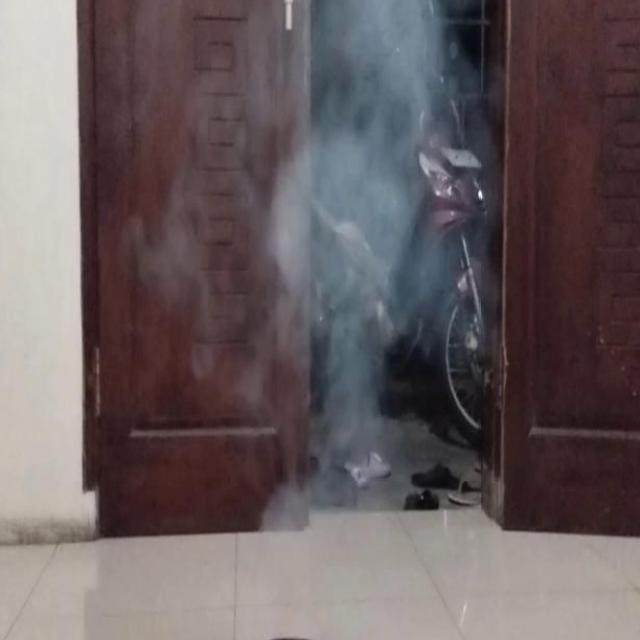fire: (257, 0, 474, 523)
